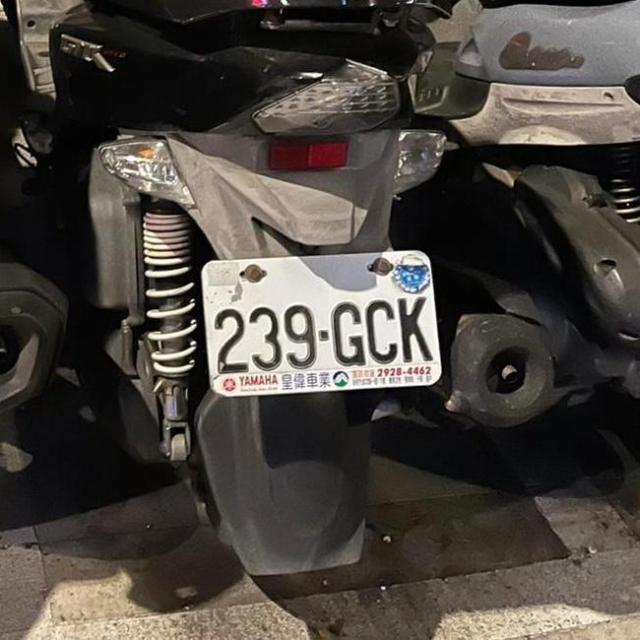W: (195, 244, 448, 406)
